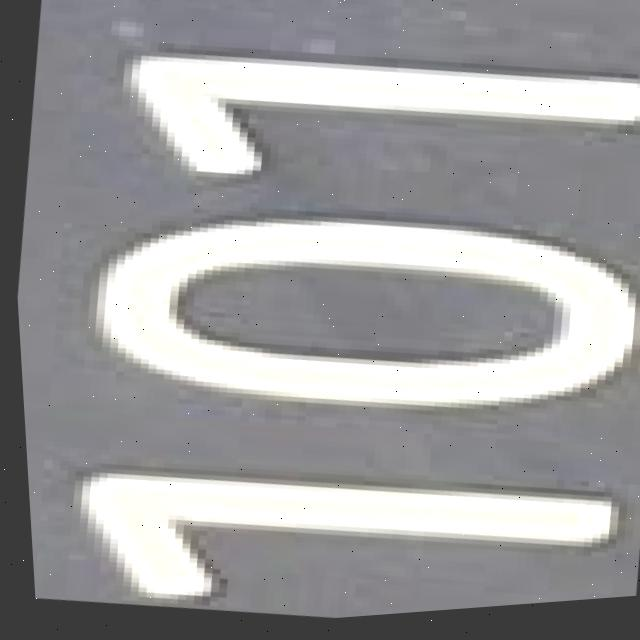character: (55, 149, 640, 479), (98, 0, 640, 253), (52, 411, 640, 638)
